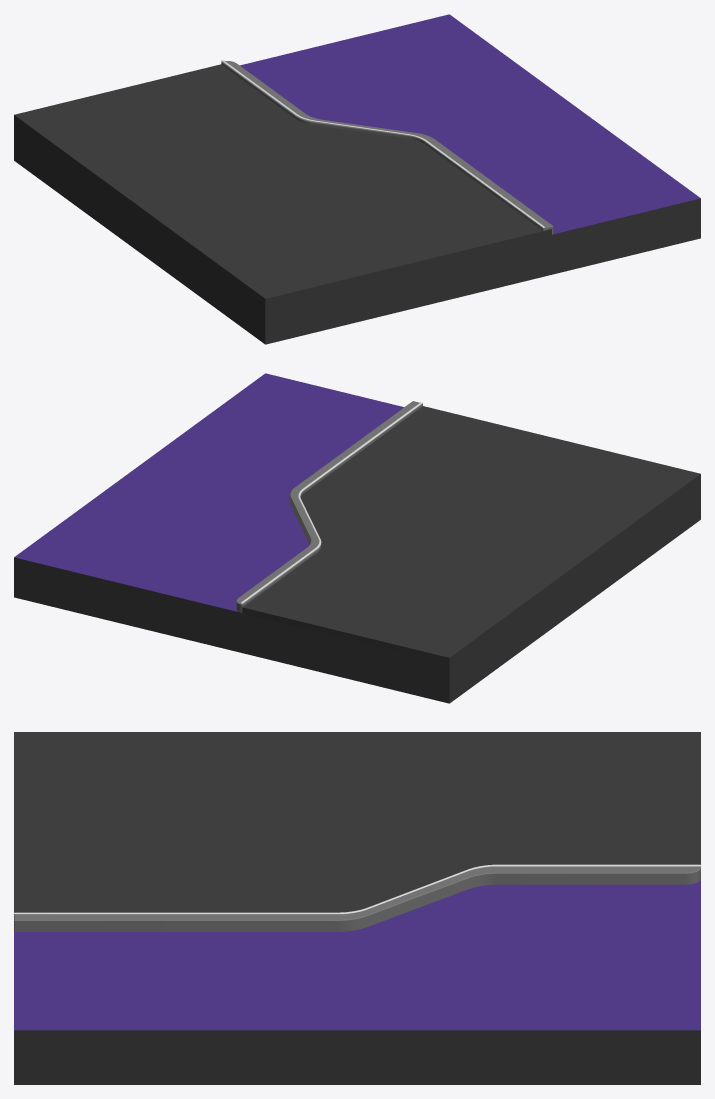
File: curb_1_dip_start.fbx
The picture shows the model from 3 angles, top to bottom: view 1: azimuth 30°, elevation 25°; view 2: azimuth 150°, elevation 25°; view 3: azimuth 270°, elevation 25°; orthographic projection. The views are drawn at different scales.
Parts seen in each view (by area): view 1: Ground 1 - Dip Start, Ground Riser.003, Curb.005, Curb Light.003; view 2: Ground 1 - Dip Start, Ground Riser.003, Curb.005, Curb Light.003; view 3: Ground 1 - Dip Start, Ground Riser.003, Curb.005, Curb Light.003.
Part boxes in pixels (x1,y1,x2,y2): Ground 1 - Dip Start: (14,14,700,344); Ground Riser.003: (14,64,551,304); Curb.005: (221,61,553,234); Curb Light.003: (221,60,544,227); Ground 1 - Dip Start: (14,373,700,703); Ground Riser.003: (242,406,700,663); Curb.005: (236,401,422,613); Curb Light.003: (241,402,422,603); Ground 1 - Dip Start: (14,879,700,1084); Ground Riser.003: (14,732,700,912); Curb.005: (14,866,700,931); Curb Light.003: (14,864,700,914).
Bounding box in the file's own units: 800 × 87.77 × 800.
